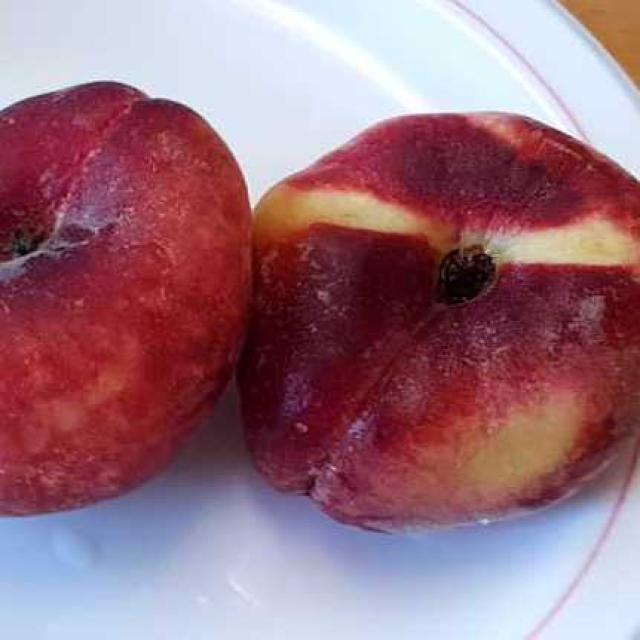peach: (6, 88, 630, 541)
